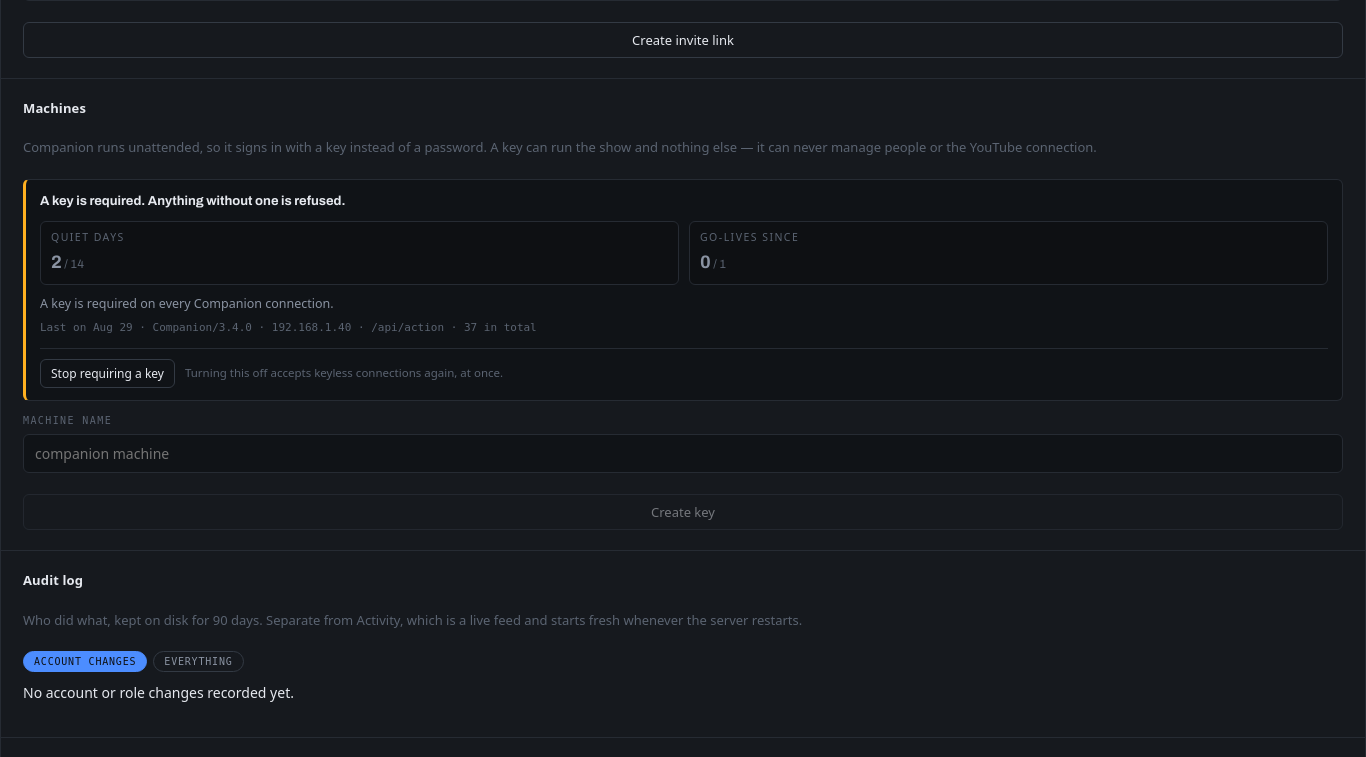
Test: the machines section › rolls back in one click, without a dialog between the operator and a dark Stream Deck
This screenshot has width=1366, height=757.
(page scrolled)
Click the button "Stop requiring a key".
click(107, 374)  # box [40,359,175,388]
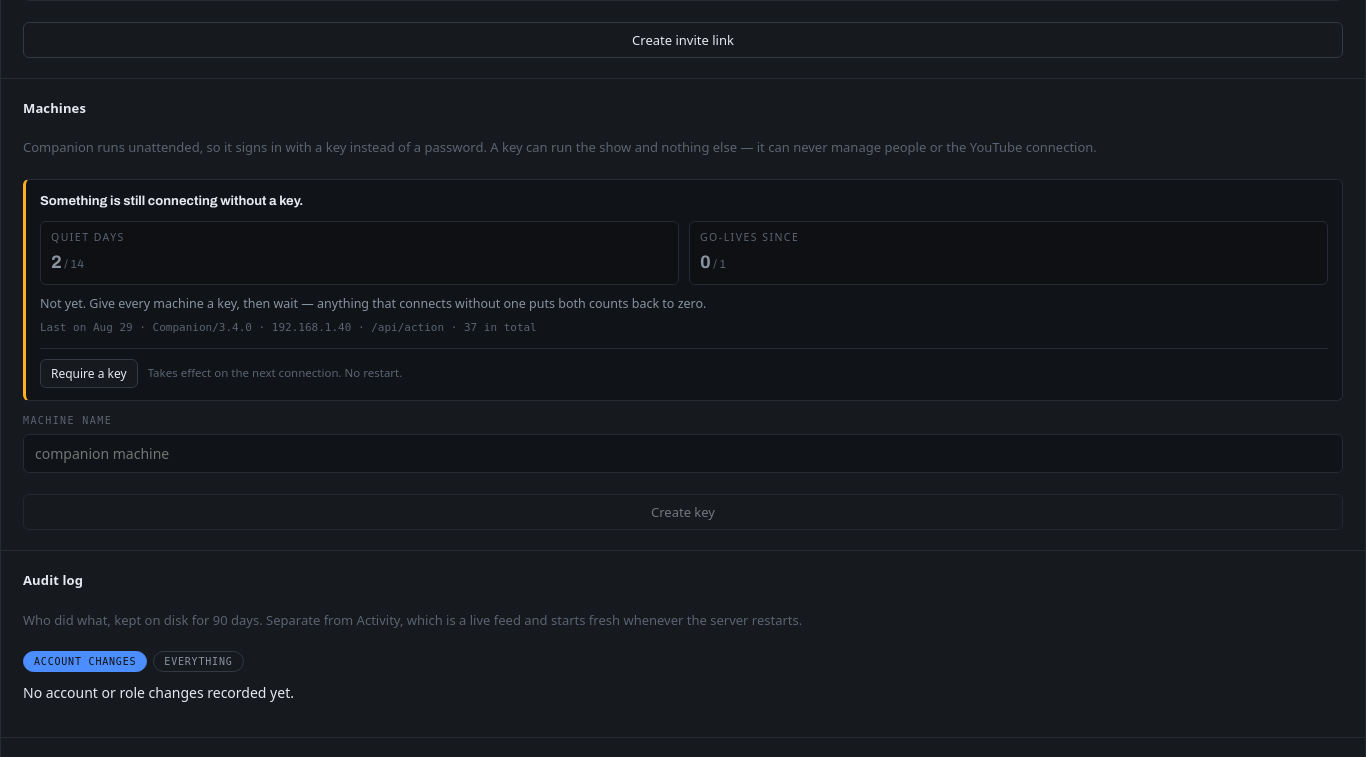
Now the button "Require a key" is shown, box [40,359,138,388]
